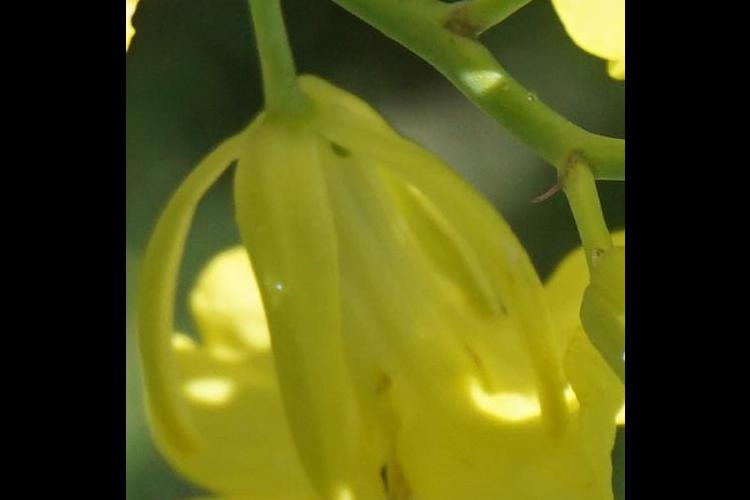yellow: (149, 117, 566, 500)
